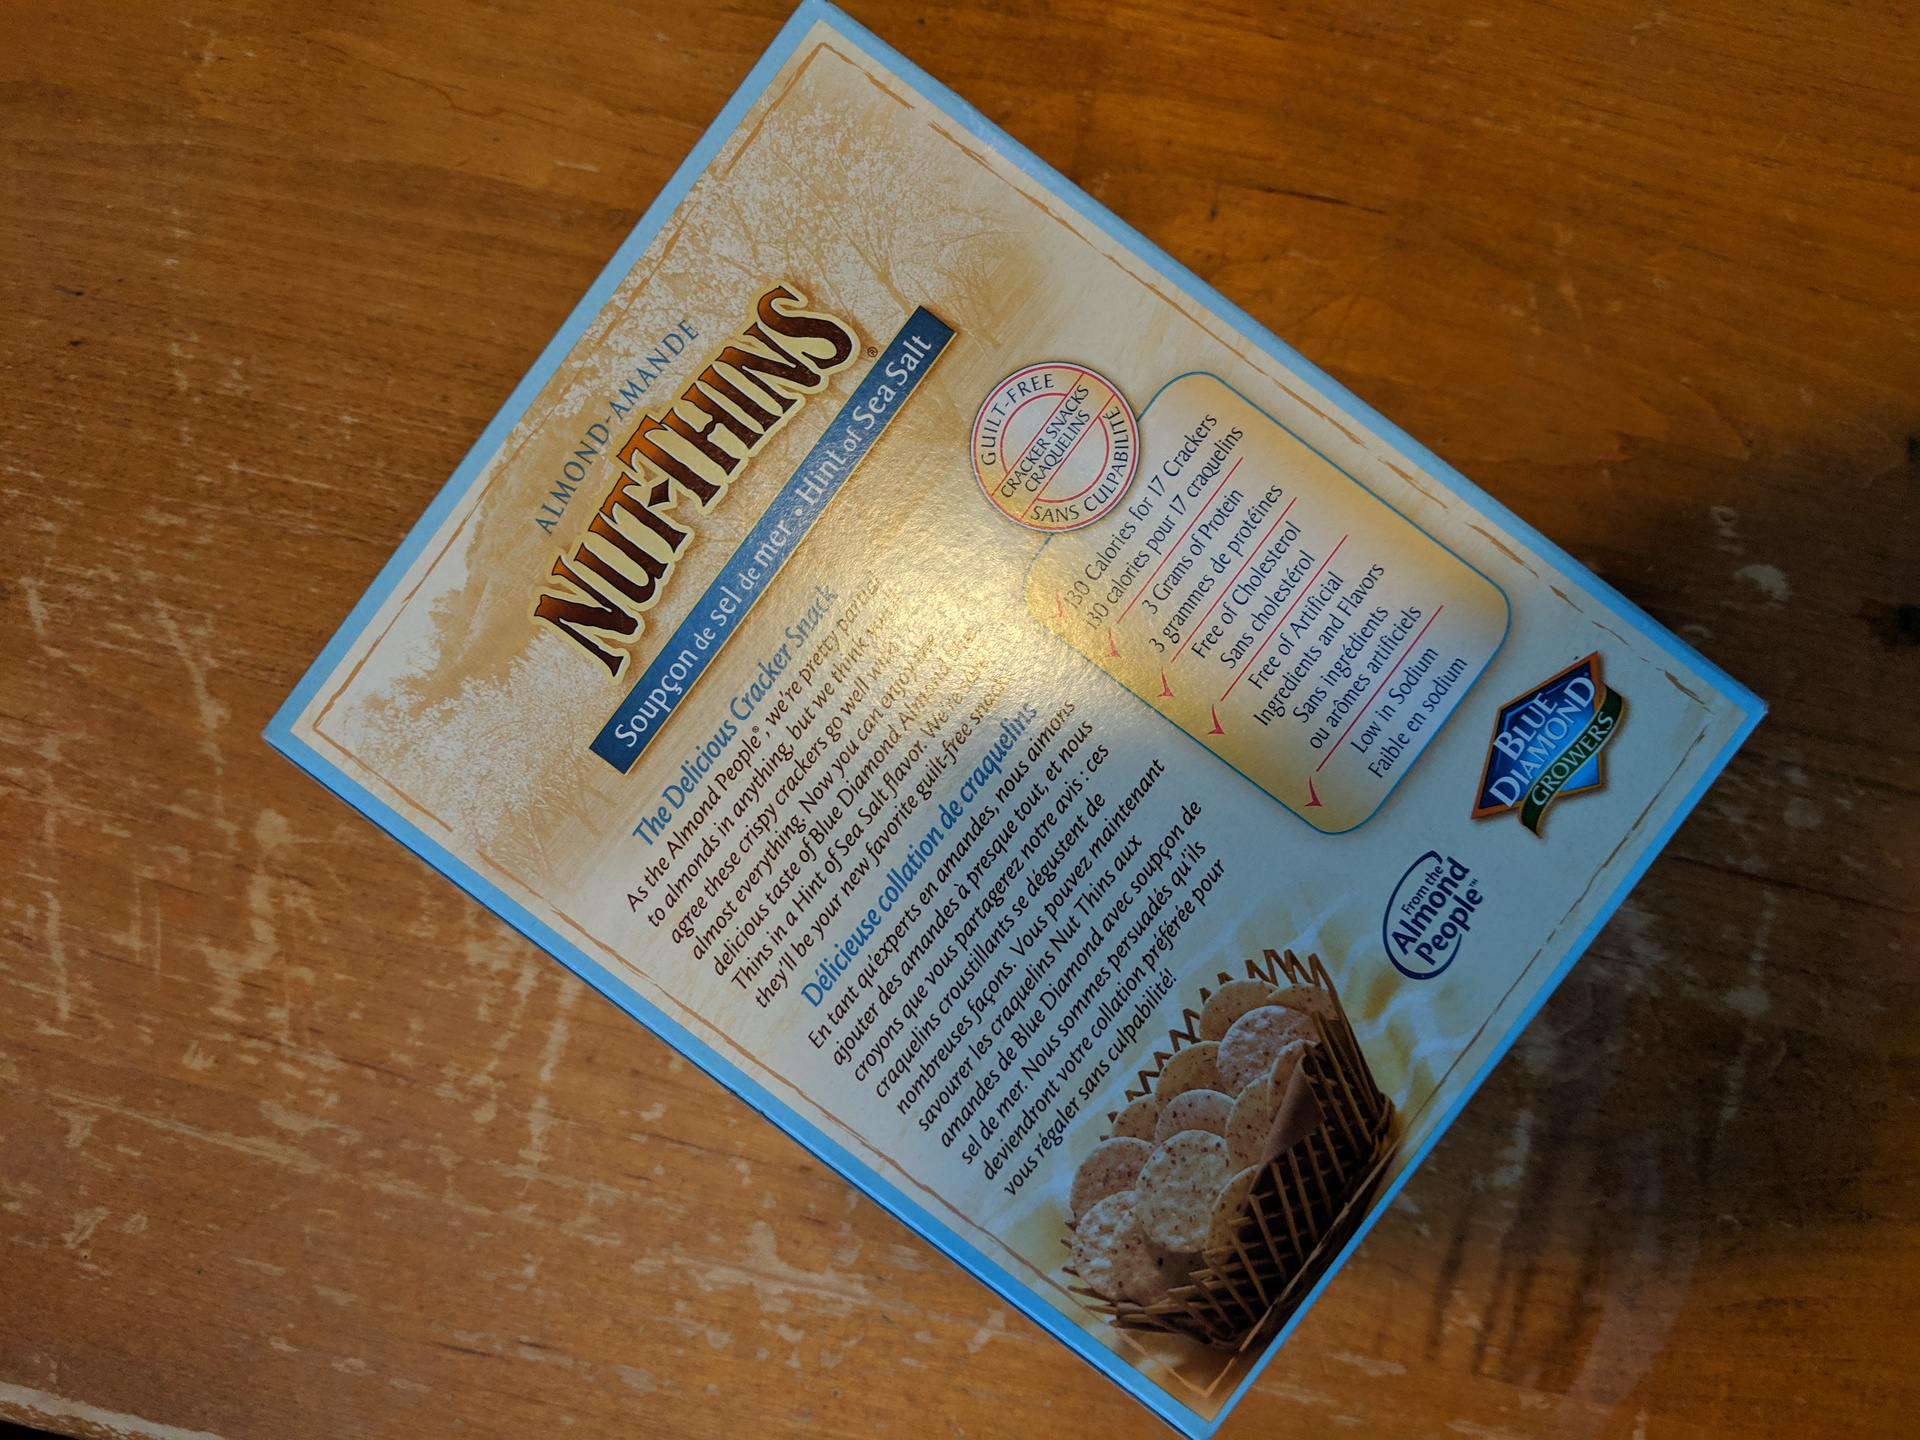blue_diamond_nut_thins_almond_seasalt: (352, 104, 1603, 1227)
